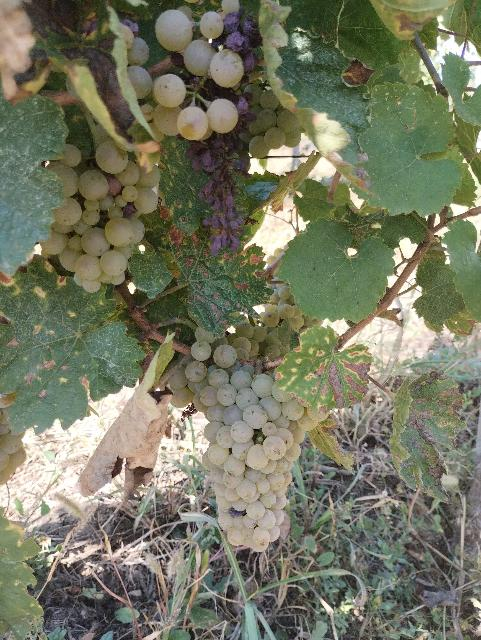grapes: (169, 340, 329, 552)
